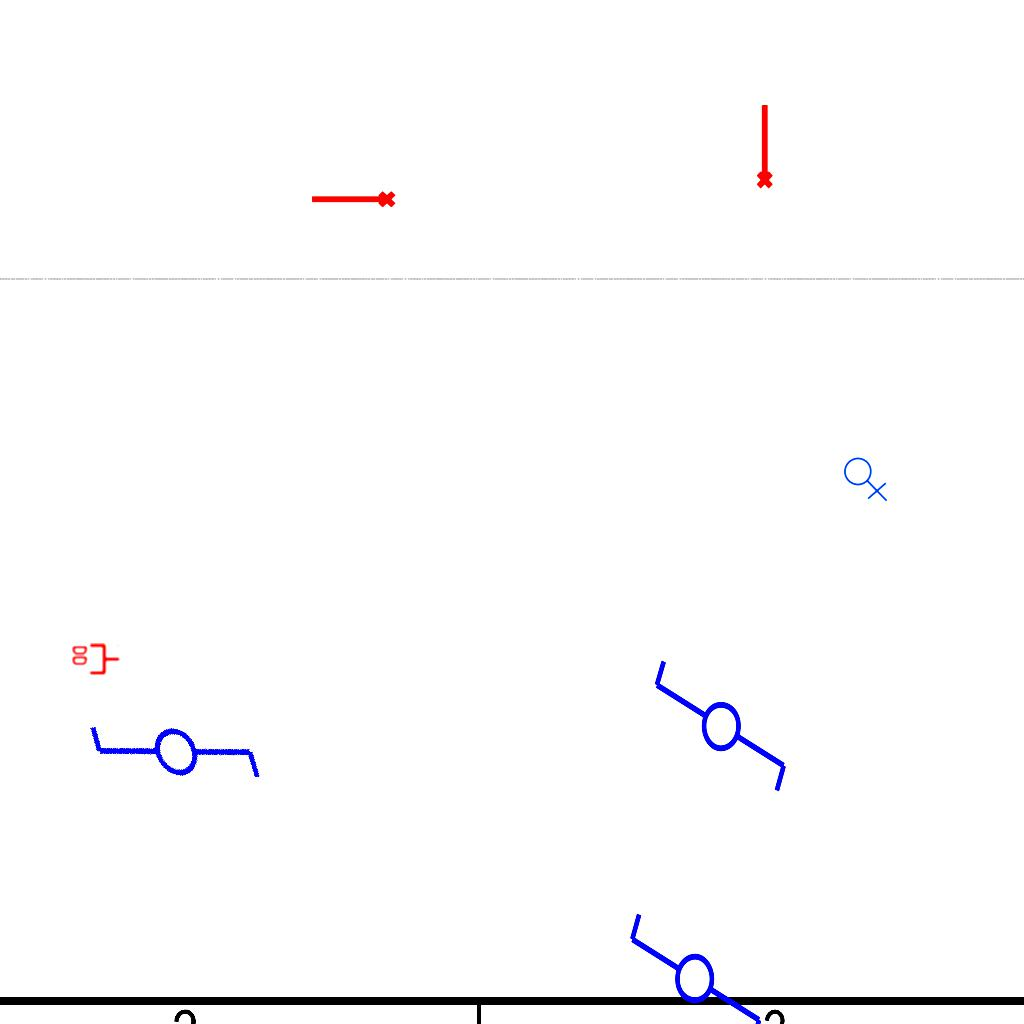ASR_Ansaugoeffnung: (309, 189, 397, 212), (752, 102, 775, 190)
Datenanschluss_zweifach: (70, 643, 121, 677)
Elektroanschluss_allgemein_230V_Geraeteanschlussdose_230V: (843, 453, 890, 502)
Wechselschalter: (75, 655, 282, 865), (647, 656, 791, 813), (625, 892, 769, 1024)
